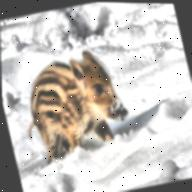boar: (16, 36, 144, 174)
